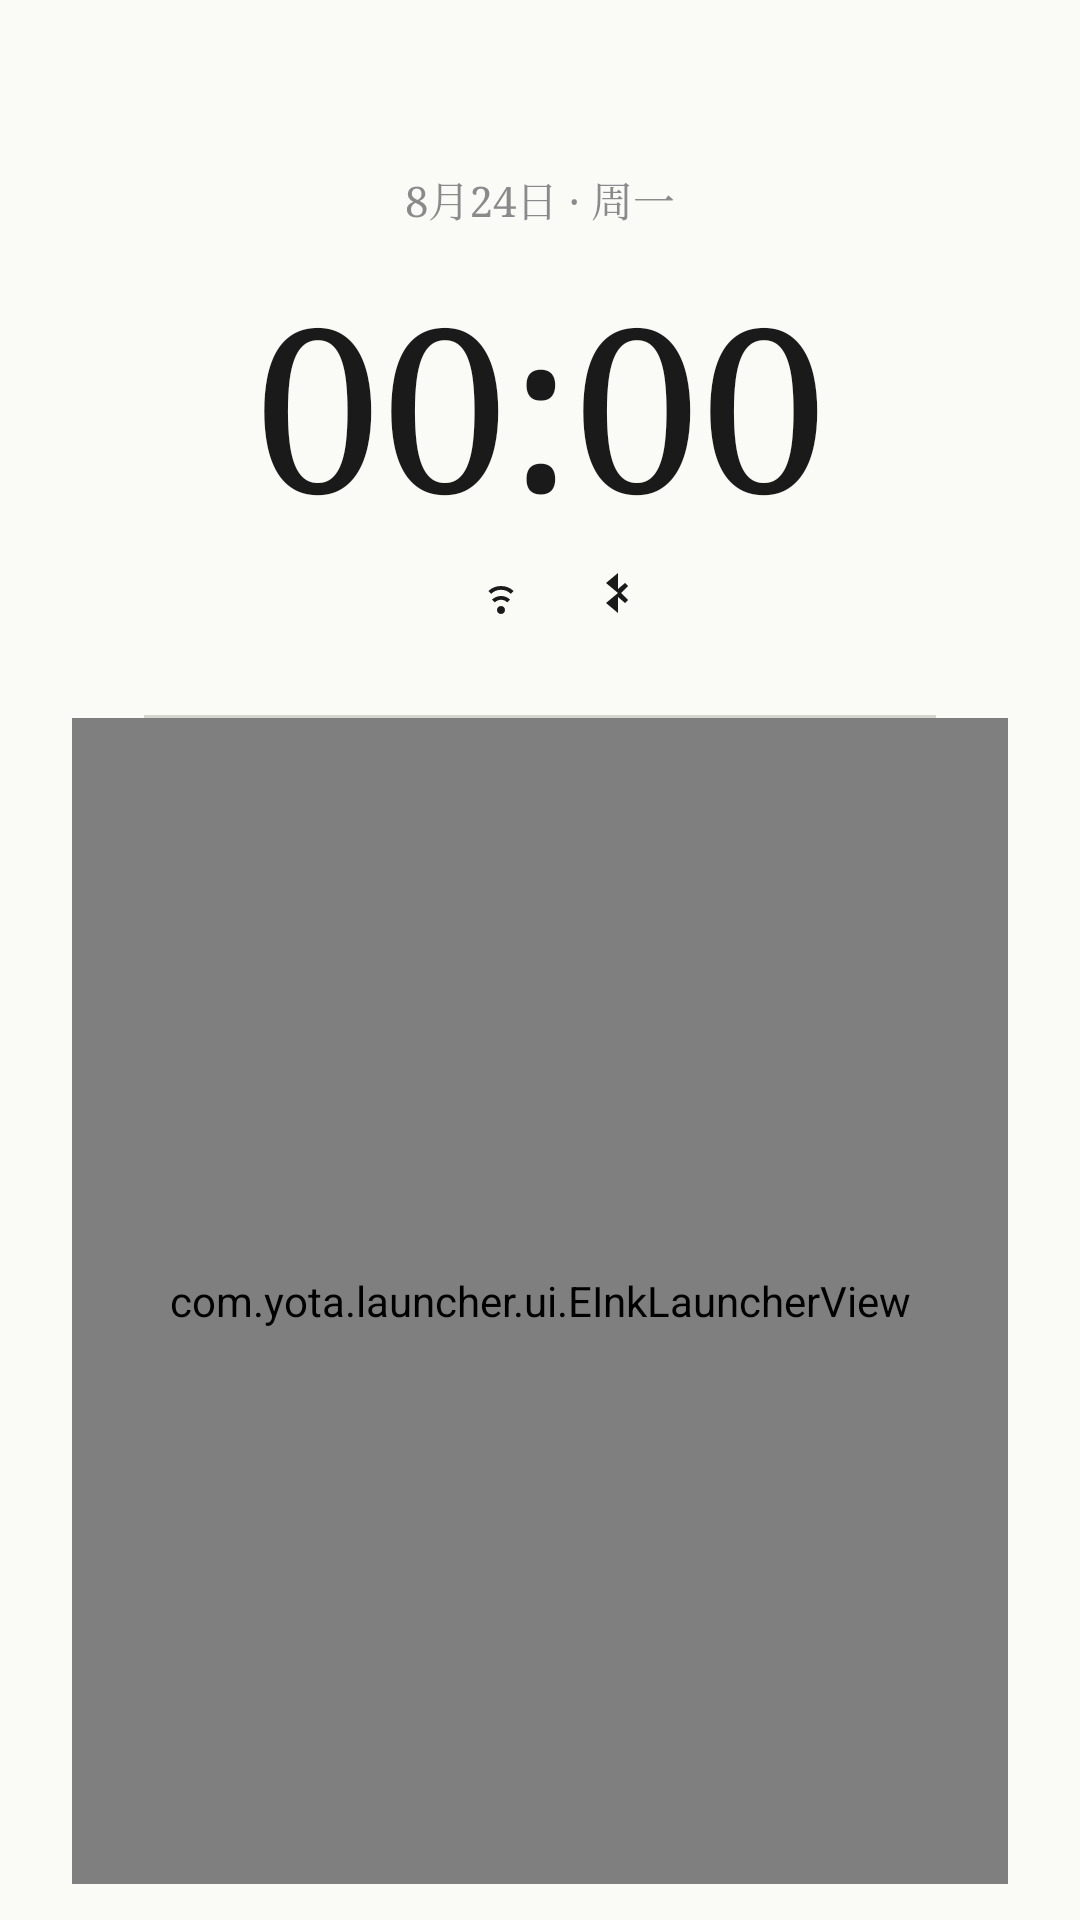

Named icons in this screenshot (1080 x 1920) and their centers, (x,y):
wifi: (501,600)
